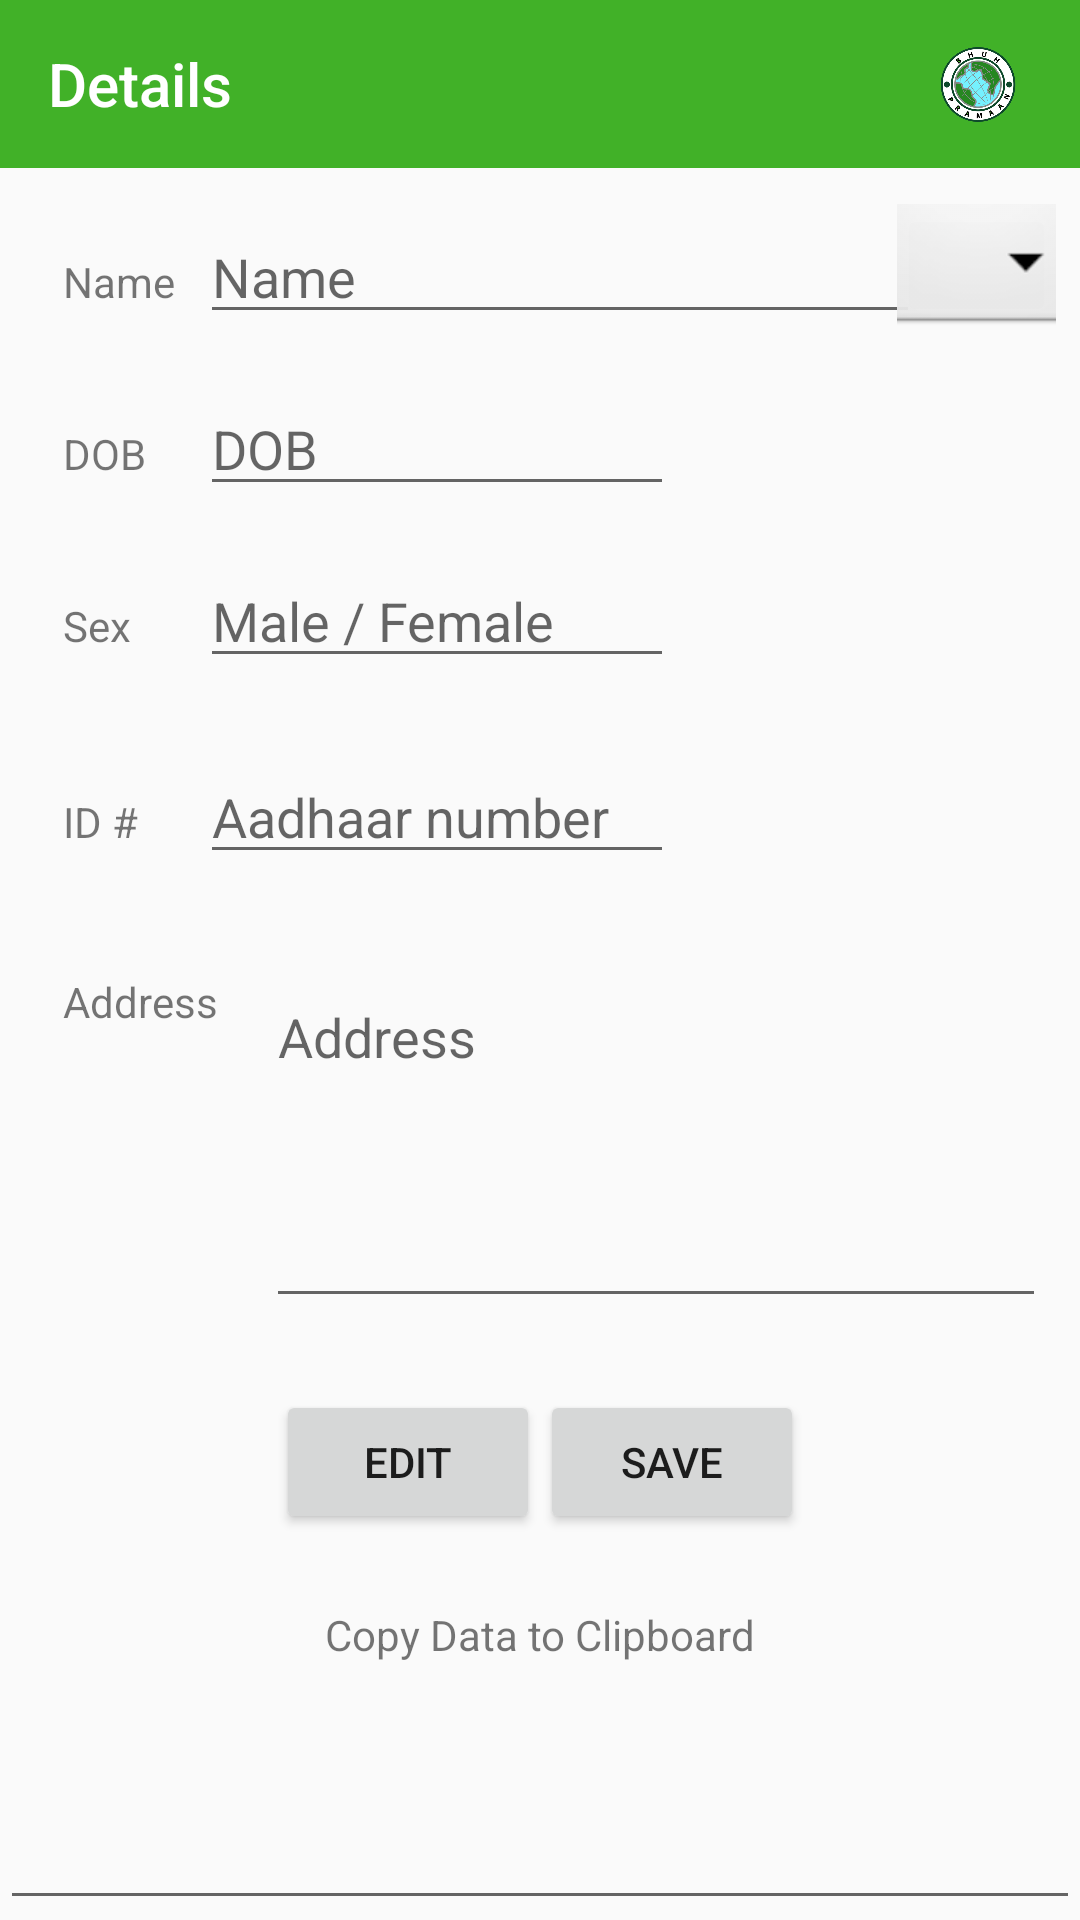

Where to tap for icons on this 1080 x 1920 app screen, as point (x, y):
dropdown: point (976, 287)
